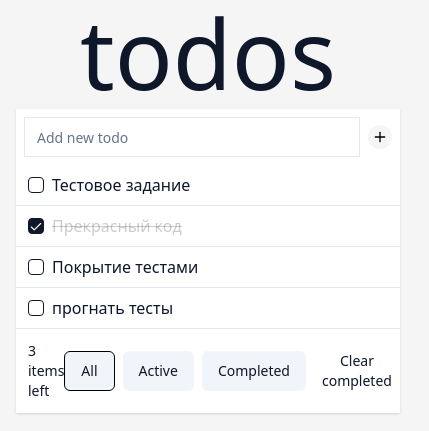
Test case: Очистка выполненных Todo › Очистка выполненных Todo
Click the button with test id "clearCompletedButton": (357, 371) 306,351 -> 408,391
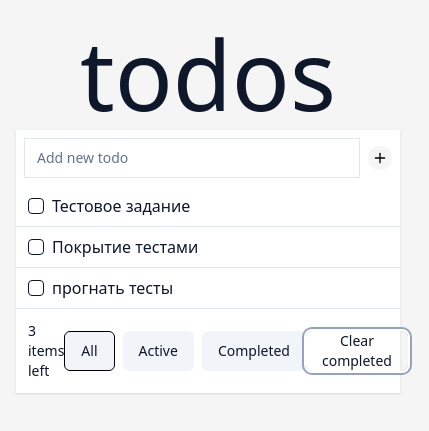
Check: the text "Тестовое задание" is shown, box 52,198 -> 190,214
Check: the text "Прекрасный код" is gone
